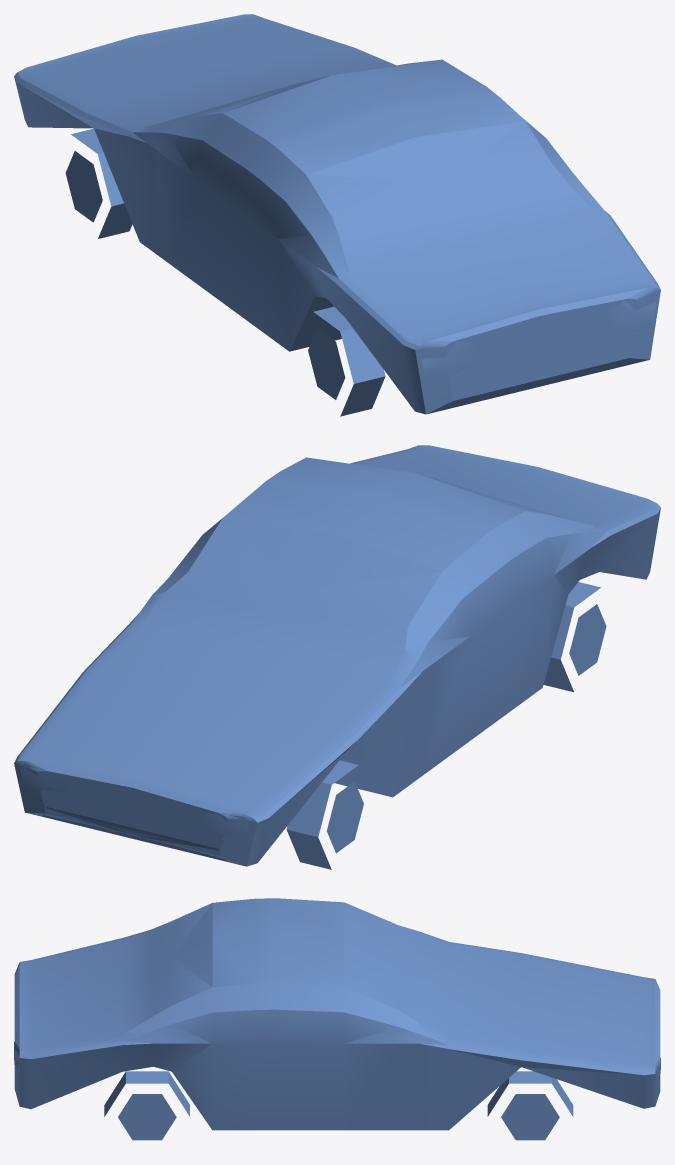
Rendered from cv2_near.glb.
3 views of the same model, one above another, from view 1: azimuth 30°, elevation 25°; view 2: azimuth 150°, elevation 25°; view 3: azimuth 270°, elevation 25° (orthographic). The views are drawn at different scales.
Parts seen in each view (by area): view 1: NearCar; view 2: NearCar; view 3: NearCar.
Part boxes in pixels (x1,y1,x2,y2): NearCar: (14,14,660,416); NearCar: (14,445,660,869); NearCar: (14,898,660,1140).
Size of the model in its own units: 1.85 by 1.38 by 4.76.
